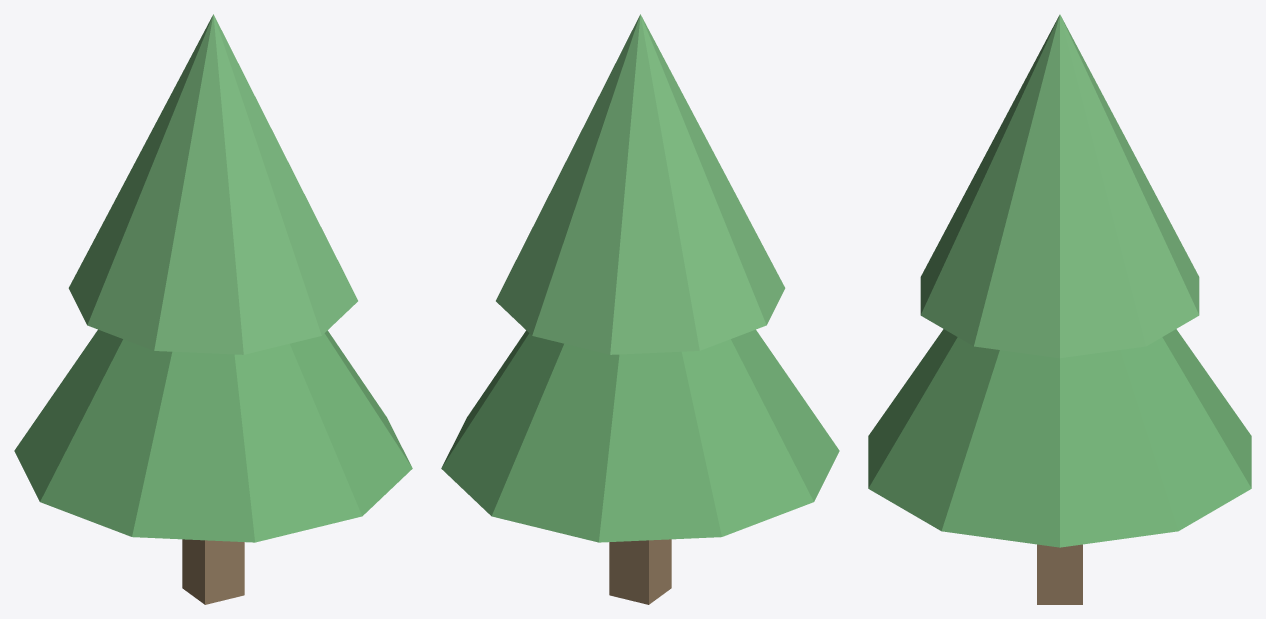
File: tree.glb
3 views of the same model, side by side, from view 1: azimuth 30°, elevation 25°; view 2: azimuth 150°, elevation 25°; view 3: azimuth 270°, elevation 25° (orthographic).
Bounding box in the file's own units: 4.4 × 7 × 4.18.
